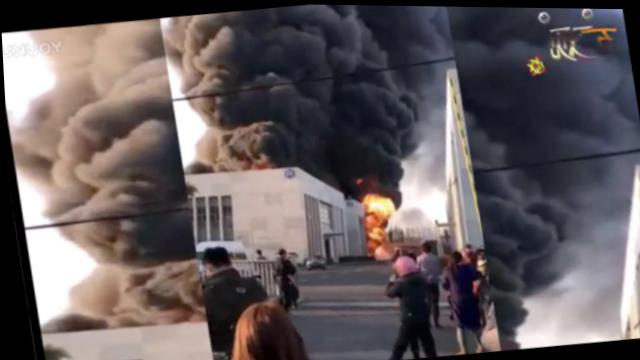fire: (361, 213, 387, 254), (361, 192, 393, 217)
